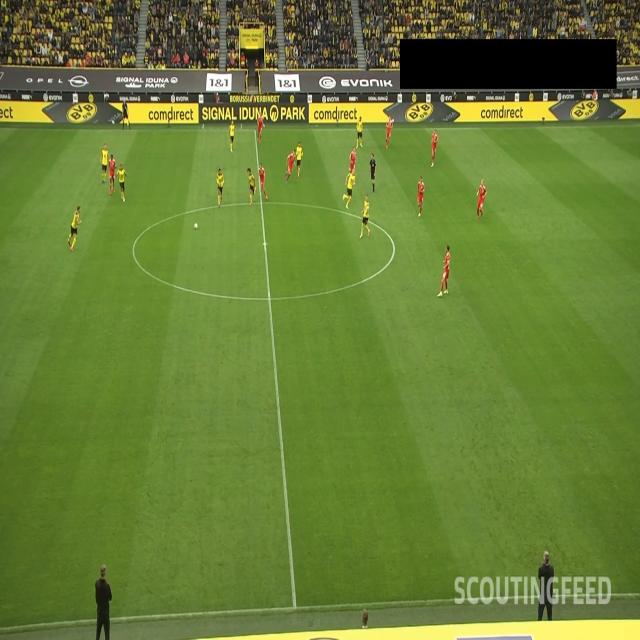ball: (194, 222, 198, 230)
